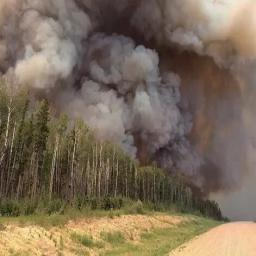Heavy smoke: (2, 1, 256, 196)
